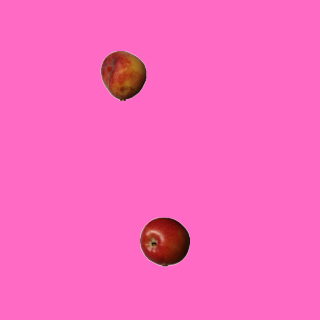Apple Braeburn: (139, 216, 189, 266)
Peach: (98, 50, 148, 100)
